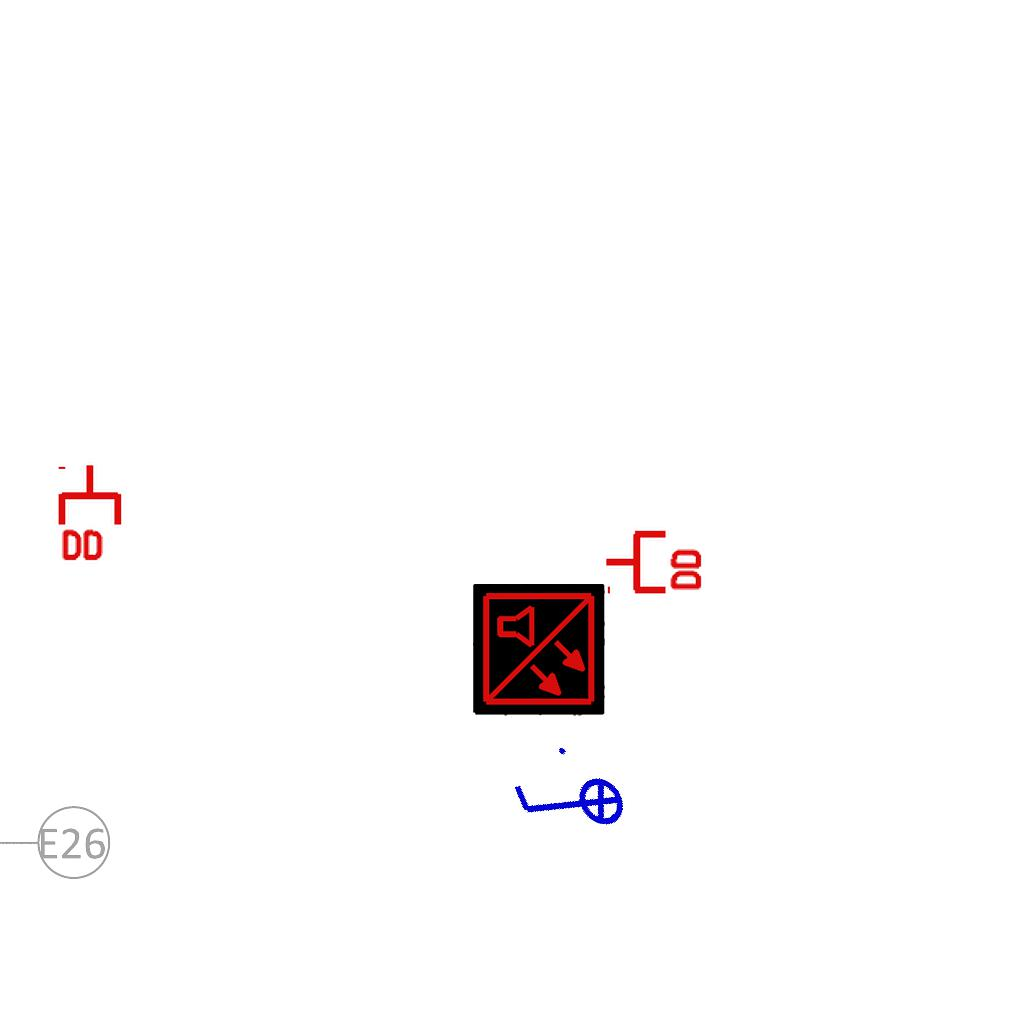Ausschalter_beleuchtet: (497, 730, 643, 878)
Datenanschluss_zweifach: (57, 462, 126, 565), (603, 526, 706, 595)
OKW_Multisensormelder_(Kombination_optischer_Rauch-Kahlenmonoxid_Waerme-Melder): (473, 584, 605, 716)
